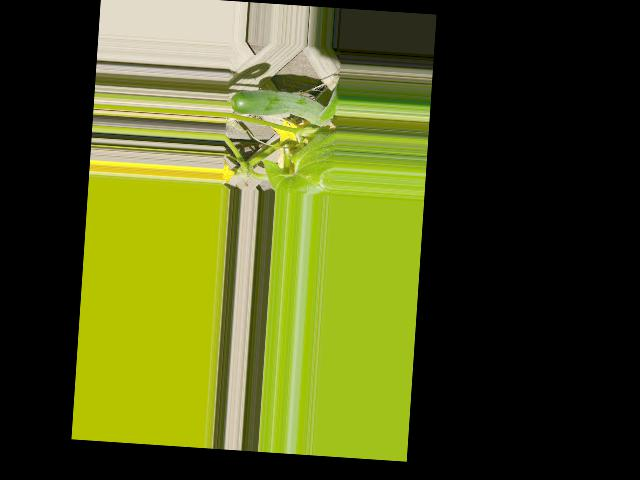cucumber: (231, 87, 338, 127)
